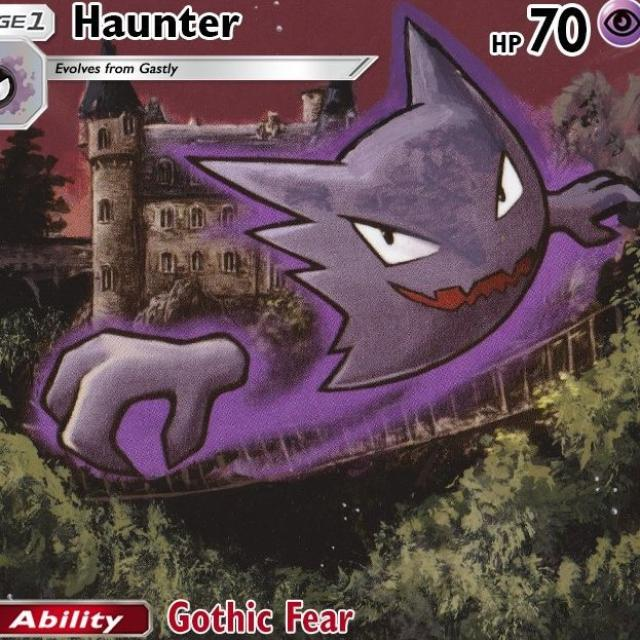Haunter: (158, 61, 634, 407)
